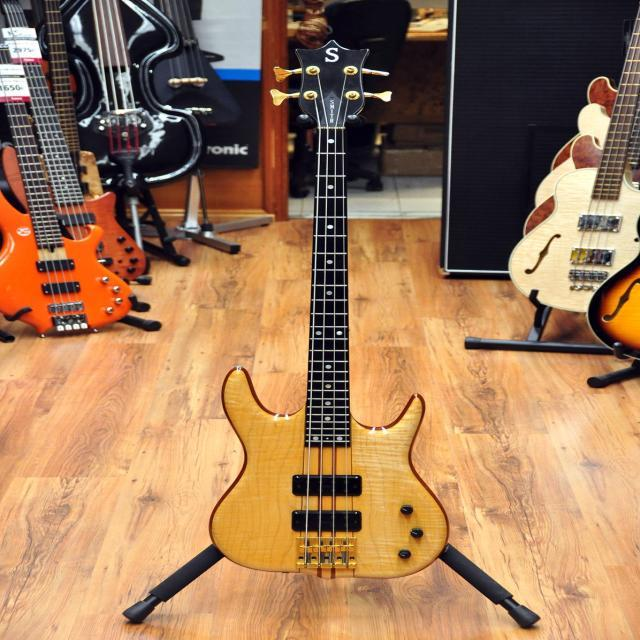bass: (210, 41, 447, 577)
